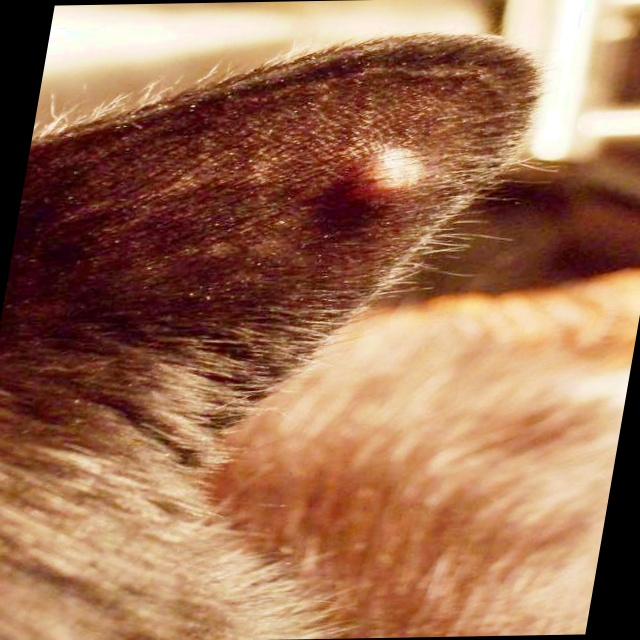lump_and_bump: (360, 148, 433, 209)
